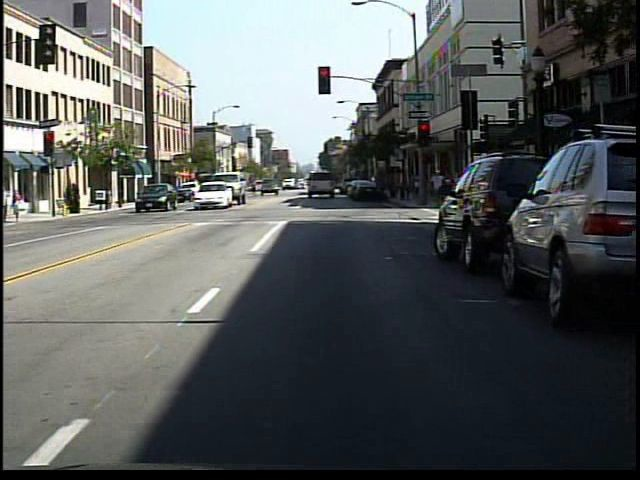person: (7, 185, 28, 225), (429, 166, 448, 207), (9, 183, 27, 226), (245, 173, 262, 201)
